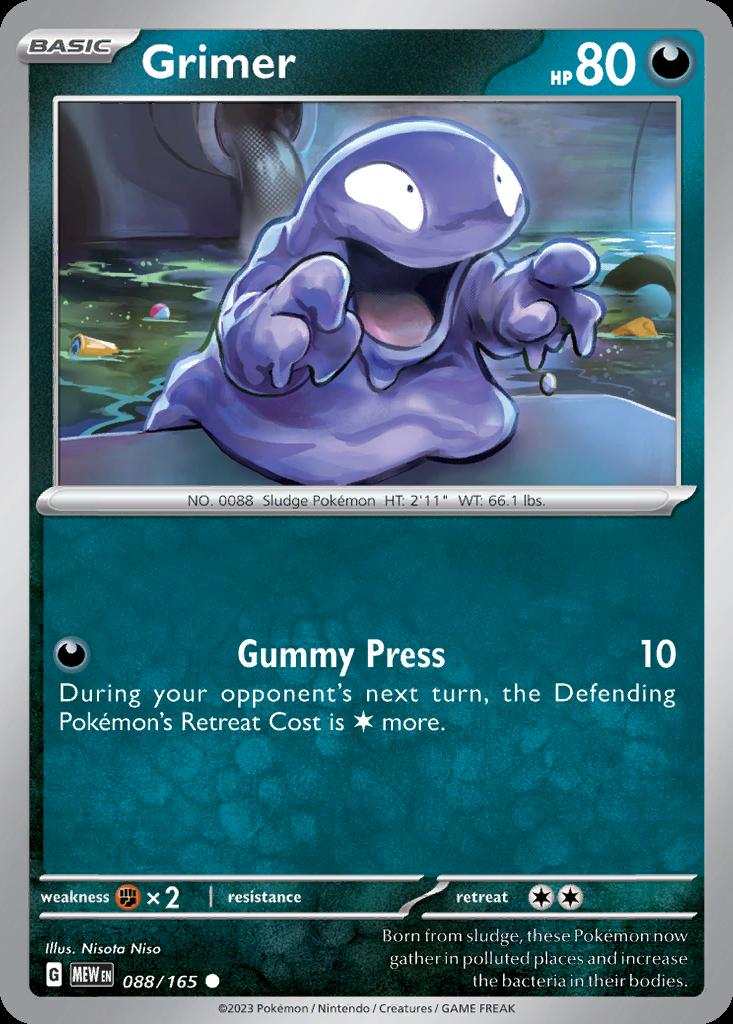card: (4, 4, 733, 1024)
hp: (537, 21, 706, 97)
name: (131, 24, 307, 90)
set num: (121, 967, 221, 993)
set symbol: (43, 956, 120, 996)
